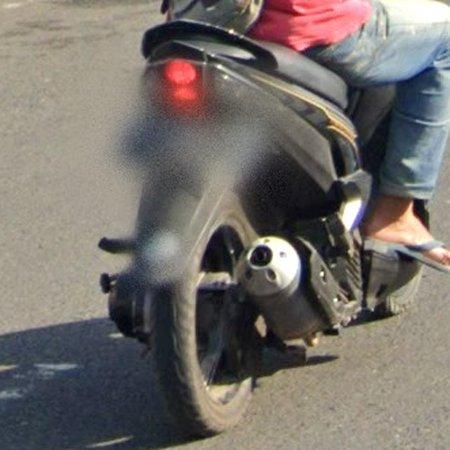motorcycles: (98, 19, 435, 433)
